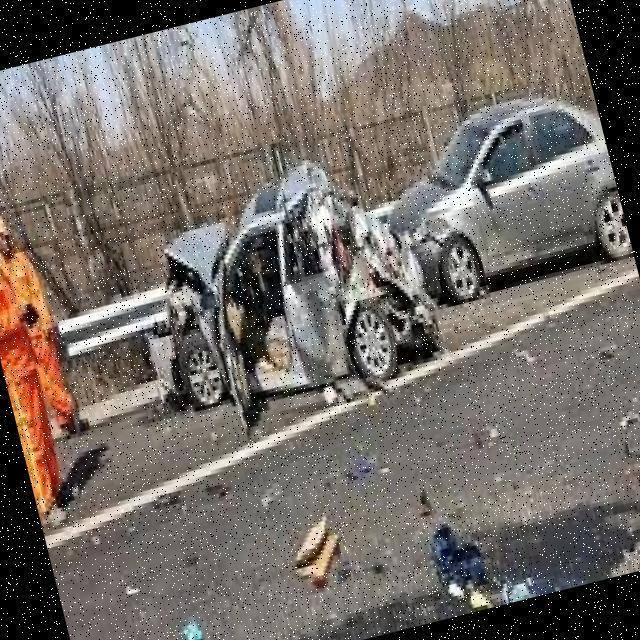accident: (121, 136, 484, 452)
